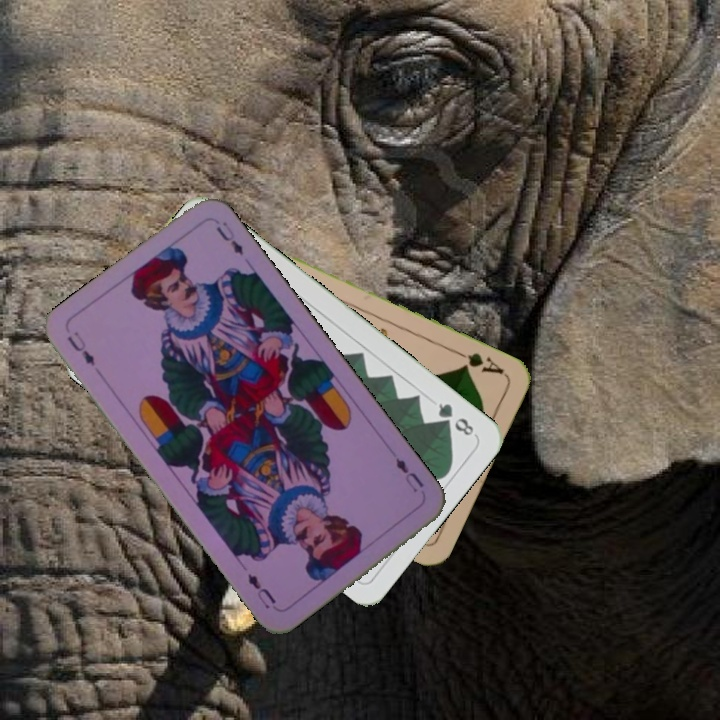EU: (62, 327, 98, 369), (391, 453, 427, 491)
G8: (433, 399, 479, 439)
GA: (451, 346, 506, 377)
